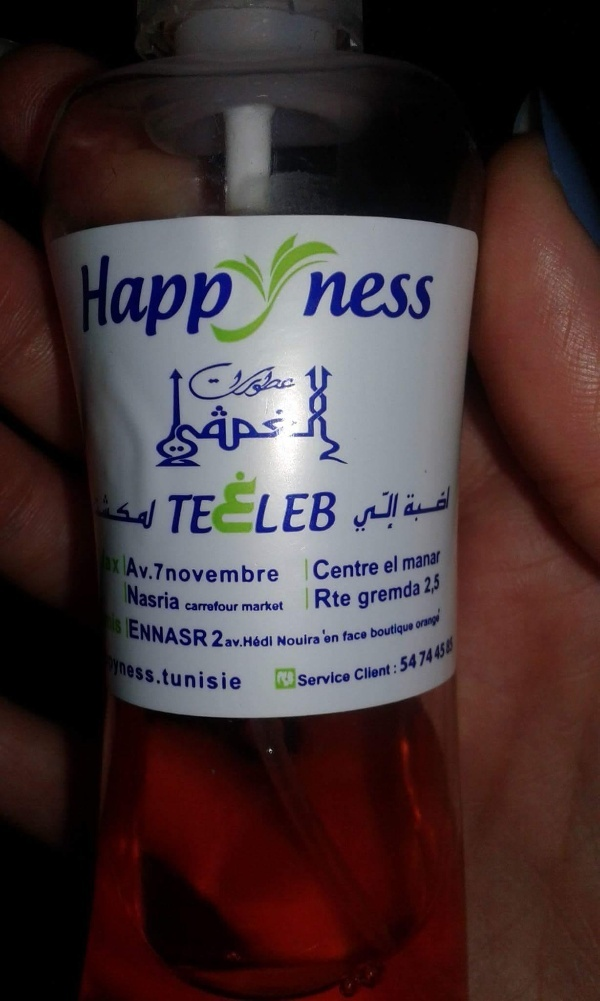text: (81, 246, 96, 340), (97, 246, 112, 340), (113, 246, 128, 340), (129, 246, 144, 340), (145, 246, 160, 340), (161, 246, 176, 340), (177, 246, 192, 340), (193, 246, 208, 340), (209, 246, 224, 340), (177, 399, 192, 467), (193, 399, 208, 467), (209, 399, 224, 467), (225, 399, 240, 467), (241, 399, 256, 467), (257, 399, 272, 467), (273, 399, 288, 467), (289, 399, 304, 467), (305, 399, 320, 467), (225, 471, 240, 535), (241, 471, 256, 535), (163, 399, 176, 467), (225, 246, 233, 340), (321, 272, 336, 321), (337, 272, 352, 321), (353, 272, 368, 321), (369, 272, 384, 321), (385, 272, 400, 321), (401, 272, 416, 321), (417, 272, 432, 321), (97, 487, 112, 534), (113, 487, 128, 534), (129, 487, 144, 534), (273, 492, 288, 535), (289, 492, 304, 535), (305, 492, 320, 535), (321, 492, 336, 535), (369, 491, 384, 533), (385, 491, 400, 533), (177, 495, 192, 536), (193, 495, 208, 536), (417, 484, 432, 525), (433, 484, 448, 525), (145, 487, 158, 534), (193, 362, 208, 402), (209, 362, 224, 402), (225, 362, 240, 402), (241, 362, 256, 402), (257, 362, 272, 402), (273, 362, 288, 402), (113, 656, 128, 695), (129, 656, 144, 695), (145, 656, 160, 695), (161, 656, 176, 695), (177, 656, 192, 695), (193, 656, 208, 695), (209, 656, 224, 695), (225, 656, 240, 695), (260, 492, 272, 535), (193, 618, 209, 649), (369, 578, 384, 611), (385, 578, 400, 611), (401, 578, 416, 611), (310, 272, 320, 321), (321, 399, 328, 467), (129, 618, 144, 649), (145, 618, 160, 649), (161, 618, 176, 649), (177, 618, 192, 649), (217, 471, 224, 535), (358, 491, 368, 533), (406, 484, 416, 525), (321, 556, 336, 582), (337, 556, 352, 582), (353, 556, 368, 582), (129, 585, 144, 611), (145, 585, 160, 611), (161, 585, 176, 611), (417, 608, 432, 633), (129, 557, 144, 581), (417, 550, 432, 573), (385, 620, 400, 643), (401, 620, 416, 643), (321, 588, 336, 610), (358, 578, 368, 611), (370, 620, 384, 643), (401, 653, 416, 674), (337, 588, 351, 610), (403, 550, 416, 573), (169, 495, 176, 536), (209, 495, 216, 536), (369, 556, 380, 582), (177, 565, 192, 584), (193, 565, 208, 584), (209, 565, 224, 584), (225, 565, 240, 584), (241, 565, 256, 584), (257, 565, 272, 584), (305, 669, 320, 688), (321, 669, 336, 688), (369, 663, 384, 682), (289, 362, 296, 402), (385, 554, 398, 575), (435, 641, 448, 662), (337, 669, 351, 688), (354, 663, 368, 682), (113, 611, 123, 636), (420, 648, 432, 668), (211, 630, 224, 648), (106, 656, 112, 695), (289, 633, 304, 648), (305, 633, 320, 648), (433, 608, 442, 633), (322, 630, 336, 646), (353, 629, 368, 643), (312, 556, 320, 582), (257, 635, 273, 648), (433, 550, 442, 573), (424, 573, 432, 597), (433, 573, 441, 597), (145, 557, 153, 581), (166, 565, 176, 584), (193, 601, 208, 613), (209, 601, 224, 613), (243, 635, 256, 648), (225, 601, 239, 613), (257, 601, 272, 612), (225, 638, 240, 649), (277, 633, 288, 648), (242, 601, 256, 612), (342, 629, 352, 643), (113, 559, 121, 576), (273, 565, 280, 584), (297, 669, 304, 688), (385, 663, 392, 682), (273, 601, 285, 612), (417, 578, 421, 611), (257, 471, 259, 535), (189, 362, 192, 402), (154, 563, 160, 582), (315, 588, 320, 610), (449, 636, 454, 657), (177, 585, 181, 611), (337, 492, 339, 535), (393, 663, 400, 675), (449, 484, 451, 525), (161, 563, 165, 582), (186, 601, 192, 613), (433, 272, 434, 321), (337, 630, 340, 646), (446, 636, 448, 657), (241, 656, 242, 695), (127, 585, 128, 611), (127, 557, 128, 581), (241, 638, 243, 649), (433, 648, 434, 668), (111, 559, 112, 576), (321, 633, 322, 648)
